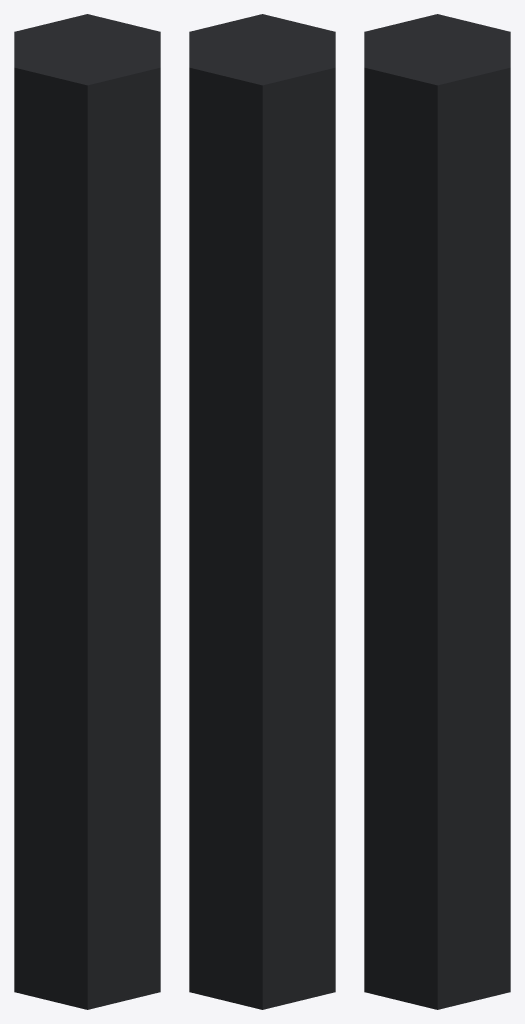
Rendered from kingdom_SM_Prop_Stove_01_Flue.gltf.
The picture shows the model from 3 angles, left to right: view 1: azimuth 30°, elevation 25°; view 2: azimuth 150°, elevation 25°; view 3: azimuth 270°, elevation 25°; orthographic projection.
Parts seen in each view (by area): view 1: SM_Prop_Stove_01_Flue; view 2: SM_Prop_Stove_01_Flue; view 3: SM_Prop_Stove_01_Flue.
Part boxes in pixels (left/top/right/bottom): SM_Prop_Stove_01_Flue: left=14, top=14, right=160, bottom=1009; SM_Prop_Stove_01_Flue: left=189, top=14, right=335, bottom=1009; SM_Prop_Stove_01_Flue: left=364, top=14, right=510, bottom=1009.
Size of the model in its own units: 0.19 by 1.15 by 0.1645.
Materials: 1 (1 with a texture image).
